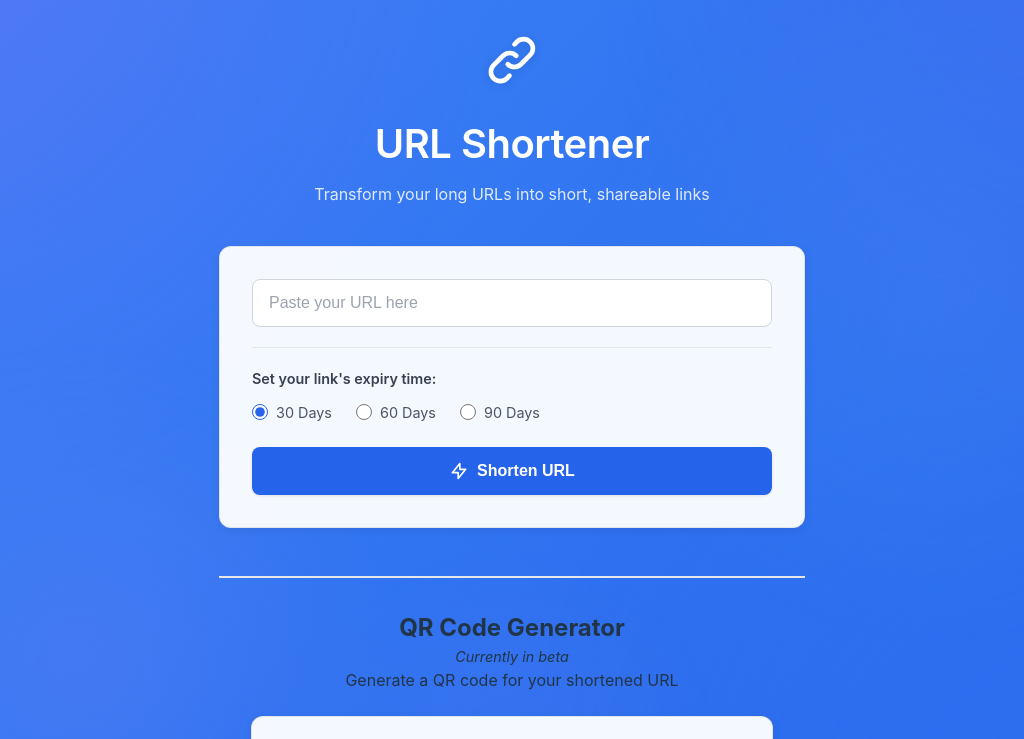
Test: App Component › Error Handling › should display error when API returns unsuccessful result
Type "https://example.com" into the field with placeholder "Paste your URL here" at coordinates (512, 303), box 252,279 -> 772,327
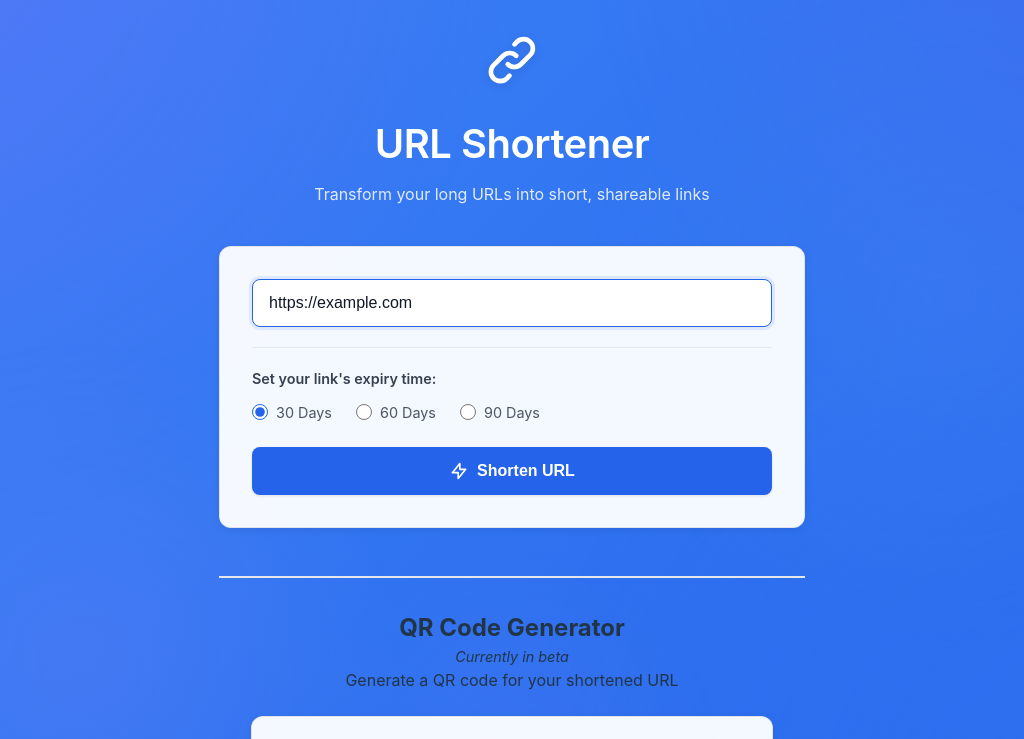
Click the button "Shorten URL" at coordinates (512, 471), box 252,447 -> 772,495
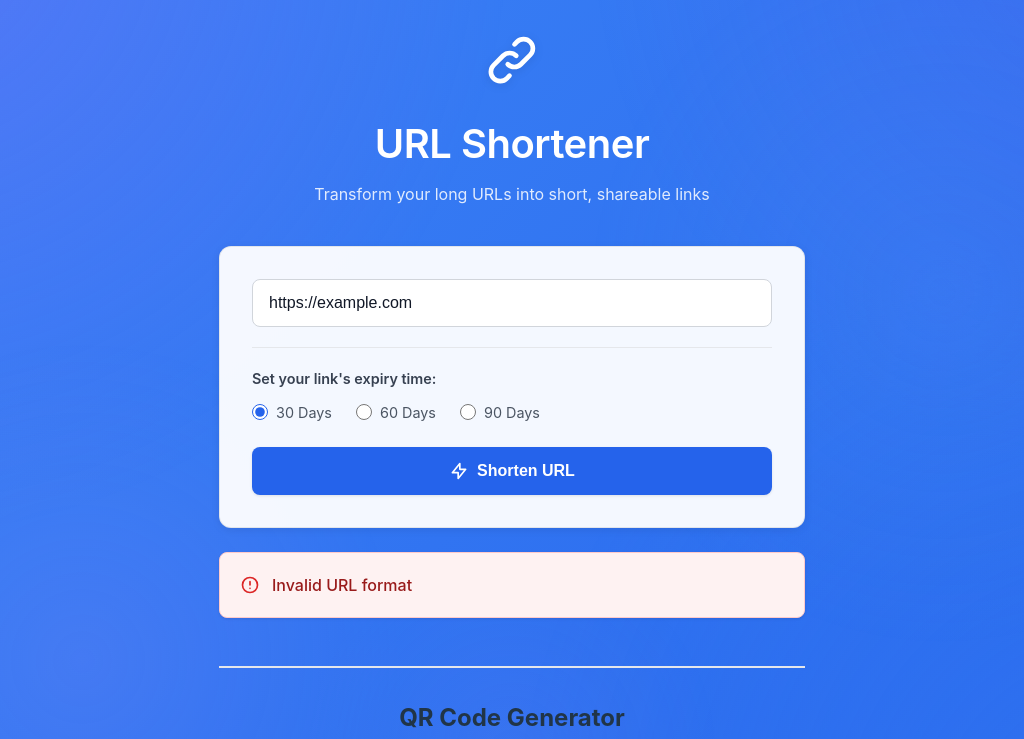
Expected: the text "Invalid URL format" is shown, 272,573 -> 412,597
